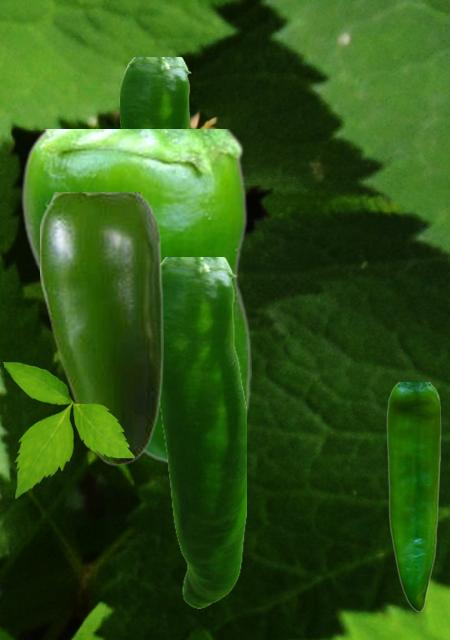green_chili: (20, 129, 250, 465), (40, 192, 162, 465), (159, 257, 245, 607), (386, 382, 440, 610), (119, 57, 191, 128)
